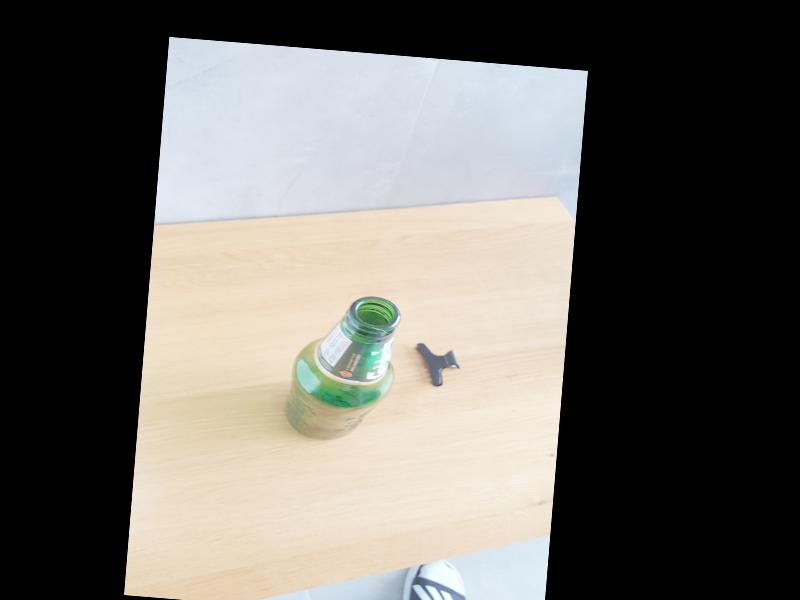Beer: (282, 290, 402, 447)
